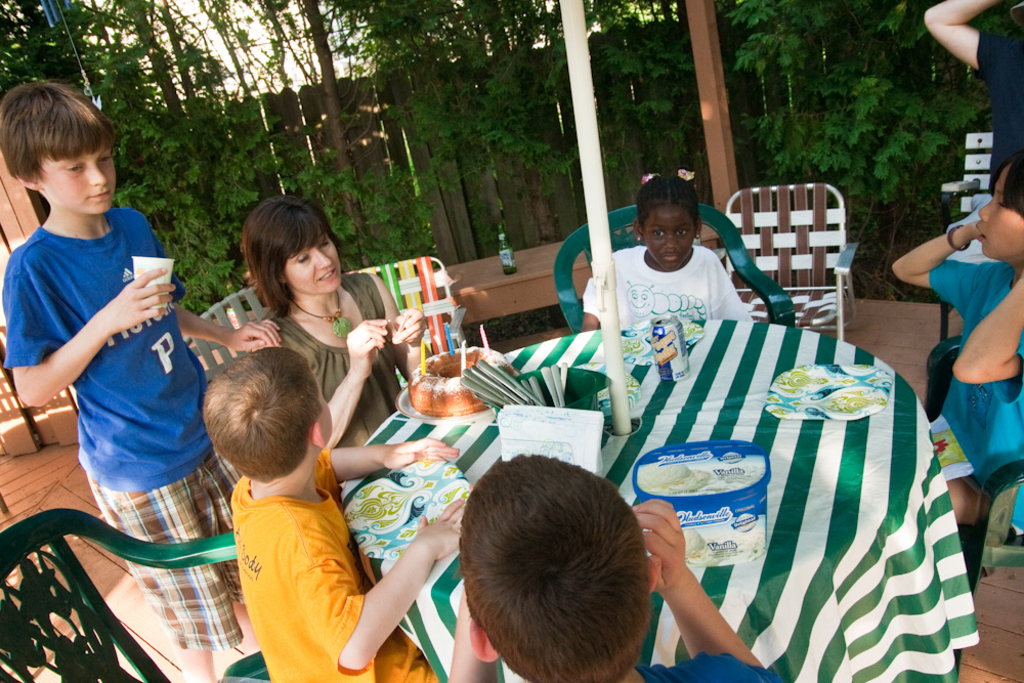Human-face: (36, 145, 119, 216), (975, 169, 1023, 261), (638, 208, 700, 270), (285, 236, 337, 294)
